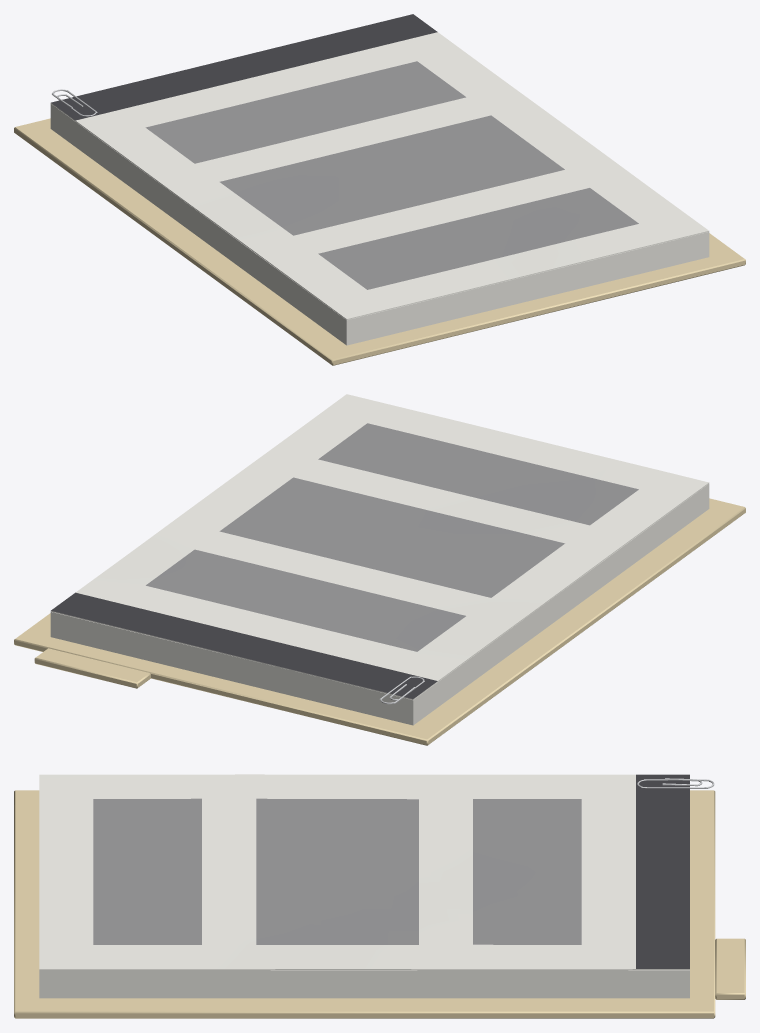
File: paper_papers_neat.fbx
The picture shows the model from 3 angles, top to bottom: view 1: azimuth 30°, elevation 25°; view 2: azimuth 150°, elevation 25°; view 3: azimuth 270°, elevation 25°; orthographic projection. The views are drawn at different scales.
Parts seen in each view (by area): view 1: paper_papers_neat; view 2: paper_papers_neat; view 3: paper_papers_neat.
Part boxes in pixels (<box>): paper_papers_neat: <box>14,14,745,365</box>; paper_papers_neat: <box>14,394,745,745</box>; paper_papers_neat: <box>14,774,745,1018</box>.
Size of the model in its own units: 0.24 by 0.0189 by 0.334.
